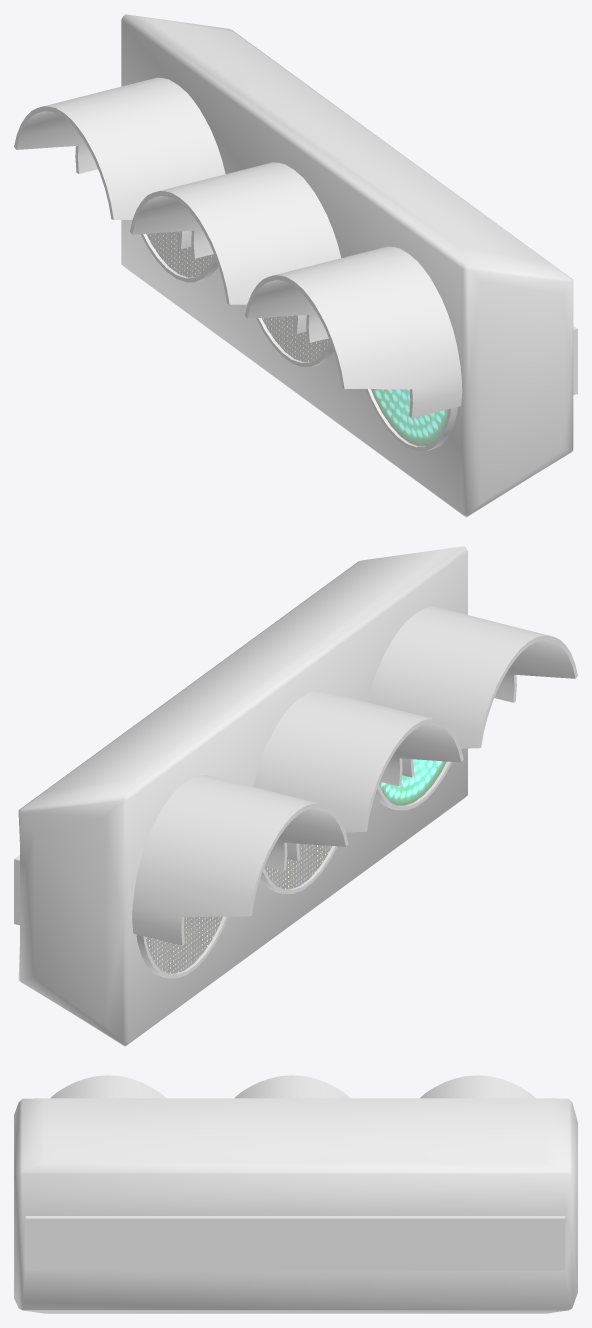
The model's file is 横排全方位灯_GreenLight.glb.
3 views of the same model, one above another, from view 1: azimuth 30°, elevation 25°; view 2: azimuth 150°, elevation 25°; view 3: azimuth 270°, elevation 25° (orthographic). The views are drawn at different scales.
Parts seen in each view (by area): view 1: 横排全方位灯_GreenLight; view 2: 横排全方位灯_GreenLight; view 3: 横排全方位灯_GreenLight.
Boxes of the visible parts, x1,y1,x2,y2 form: 横排全方位灯_GreenLight: (14, 14, 577, 517); 横排全方位灯_GreenLight: (14, 546, 577, 1046); 横排全方位灯_GreenLight: (14, 1075, 577, 1313).
Size of the model in its own units: 0.6001 by 0.65 by 1.58.
3 materials, 2 textured.
